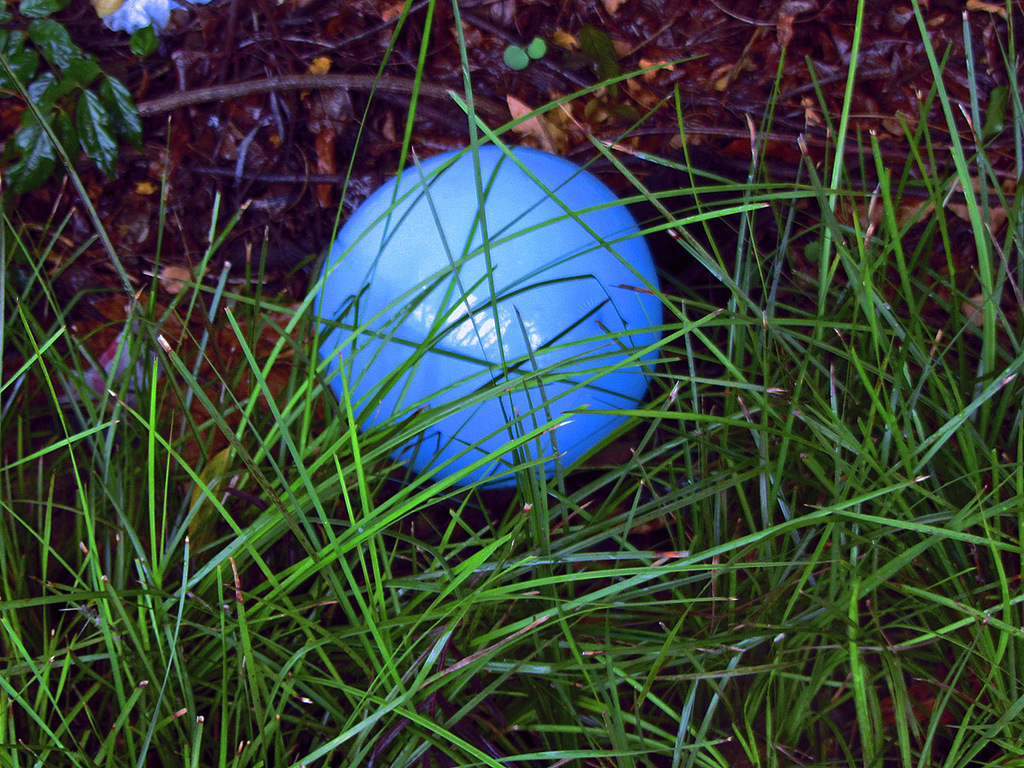Ball: (317, 143, 666, 494)
